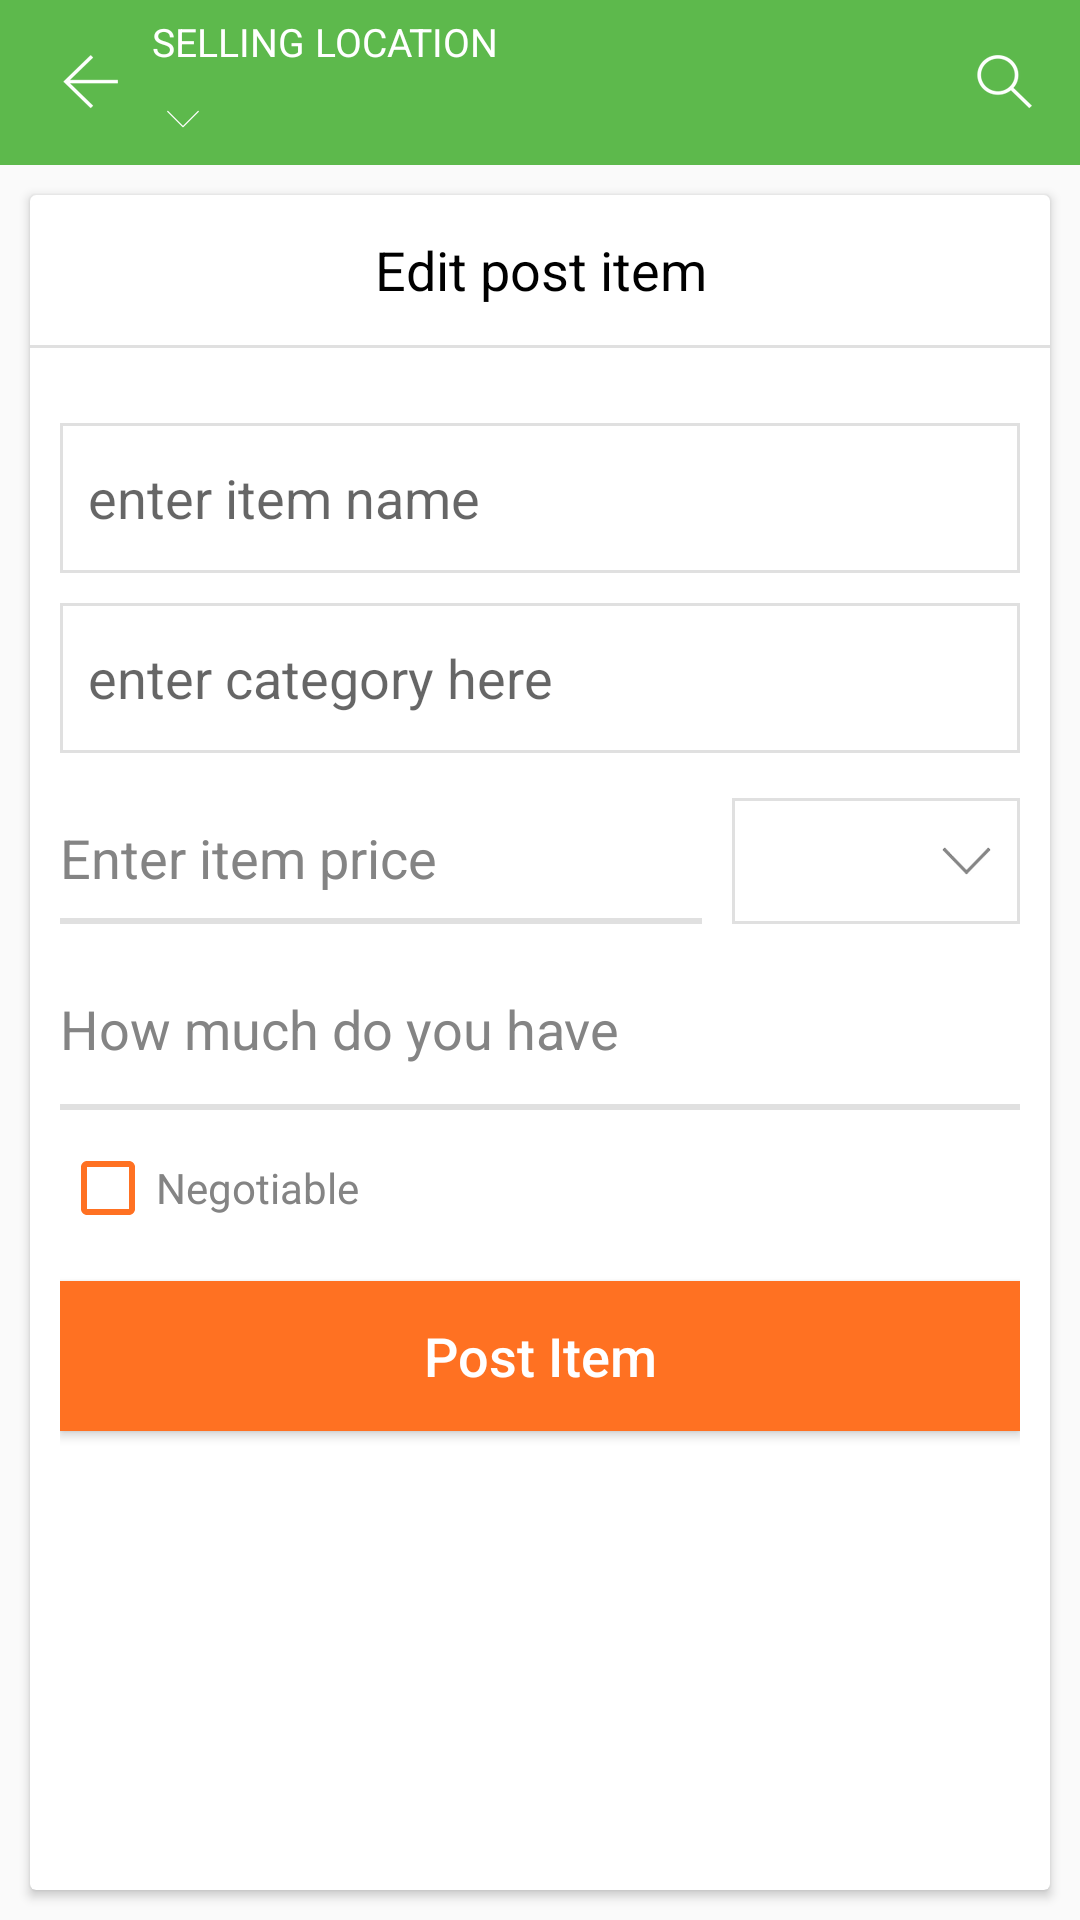

Point at icon controls on the screen. Image size 1080 × 1920, points as (x=x, y=y).
back: (x=90, y=81)
down arrow: (x=183, y=119)
search: (x=1004, y=81)
